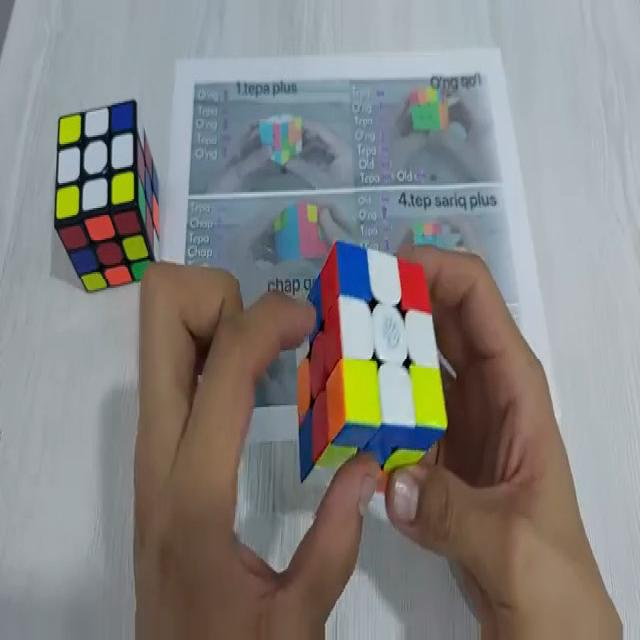Rub: (294, 240, 449, 490), (54, 99, 160, 298)
